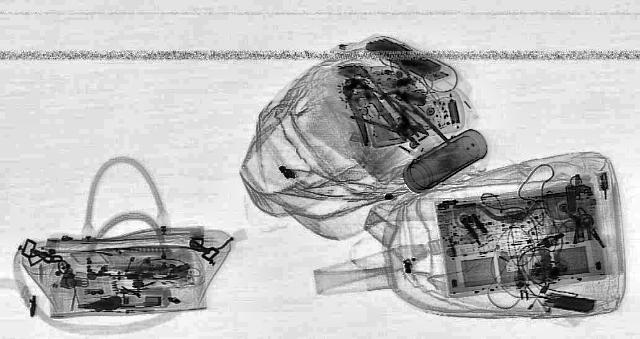Pliers: (321, 73, 414, 147)
